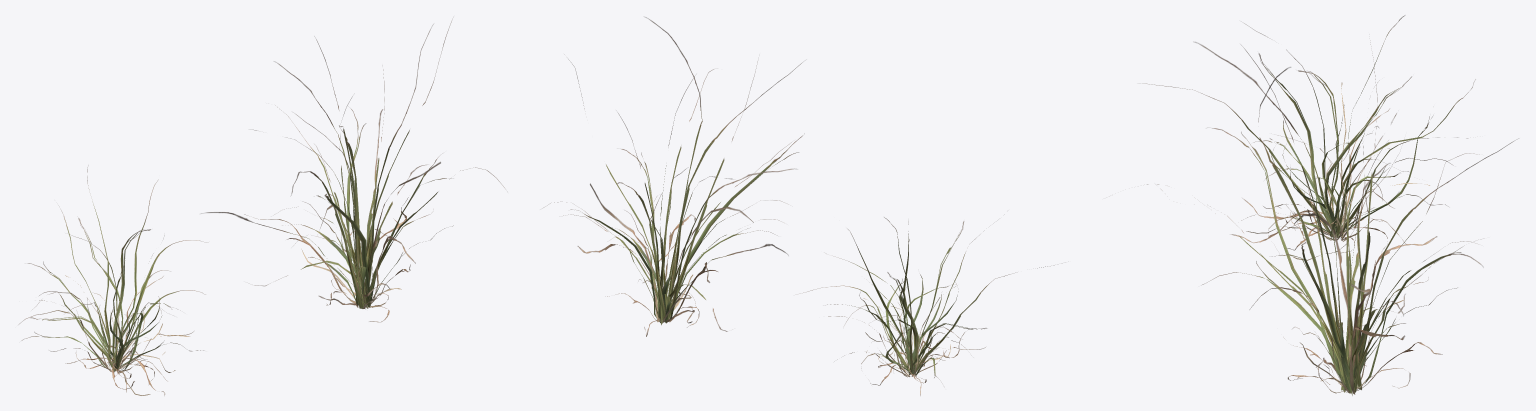
File: erba_b.glb
3 views of the same model, side by side, from view 1: azimuth 30°, elevation 25°; view 2: azimuth 150°, elevation 25°; view 3: azimuth 270°, elevation 25° (orthographic). The views are drawn at different scales.
Parts seen in each view (by area): view 1: erba_b; view 2: erba_b; view 3: erba_b.
Boxes of the visible parts, <box> form: erba_b: <box>19,19,504,395</box>; erba_b: <box>543,17,1054,395</box>; erba_b: <box>1143,15,1515,395</box>.
Bounding box in the file's own units: 0.6865 × 0.4036 × 0.4332.
Materials: 1 (1 with a texture image).
